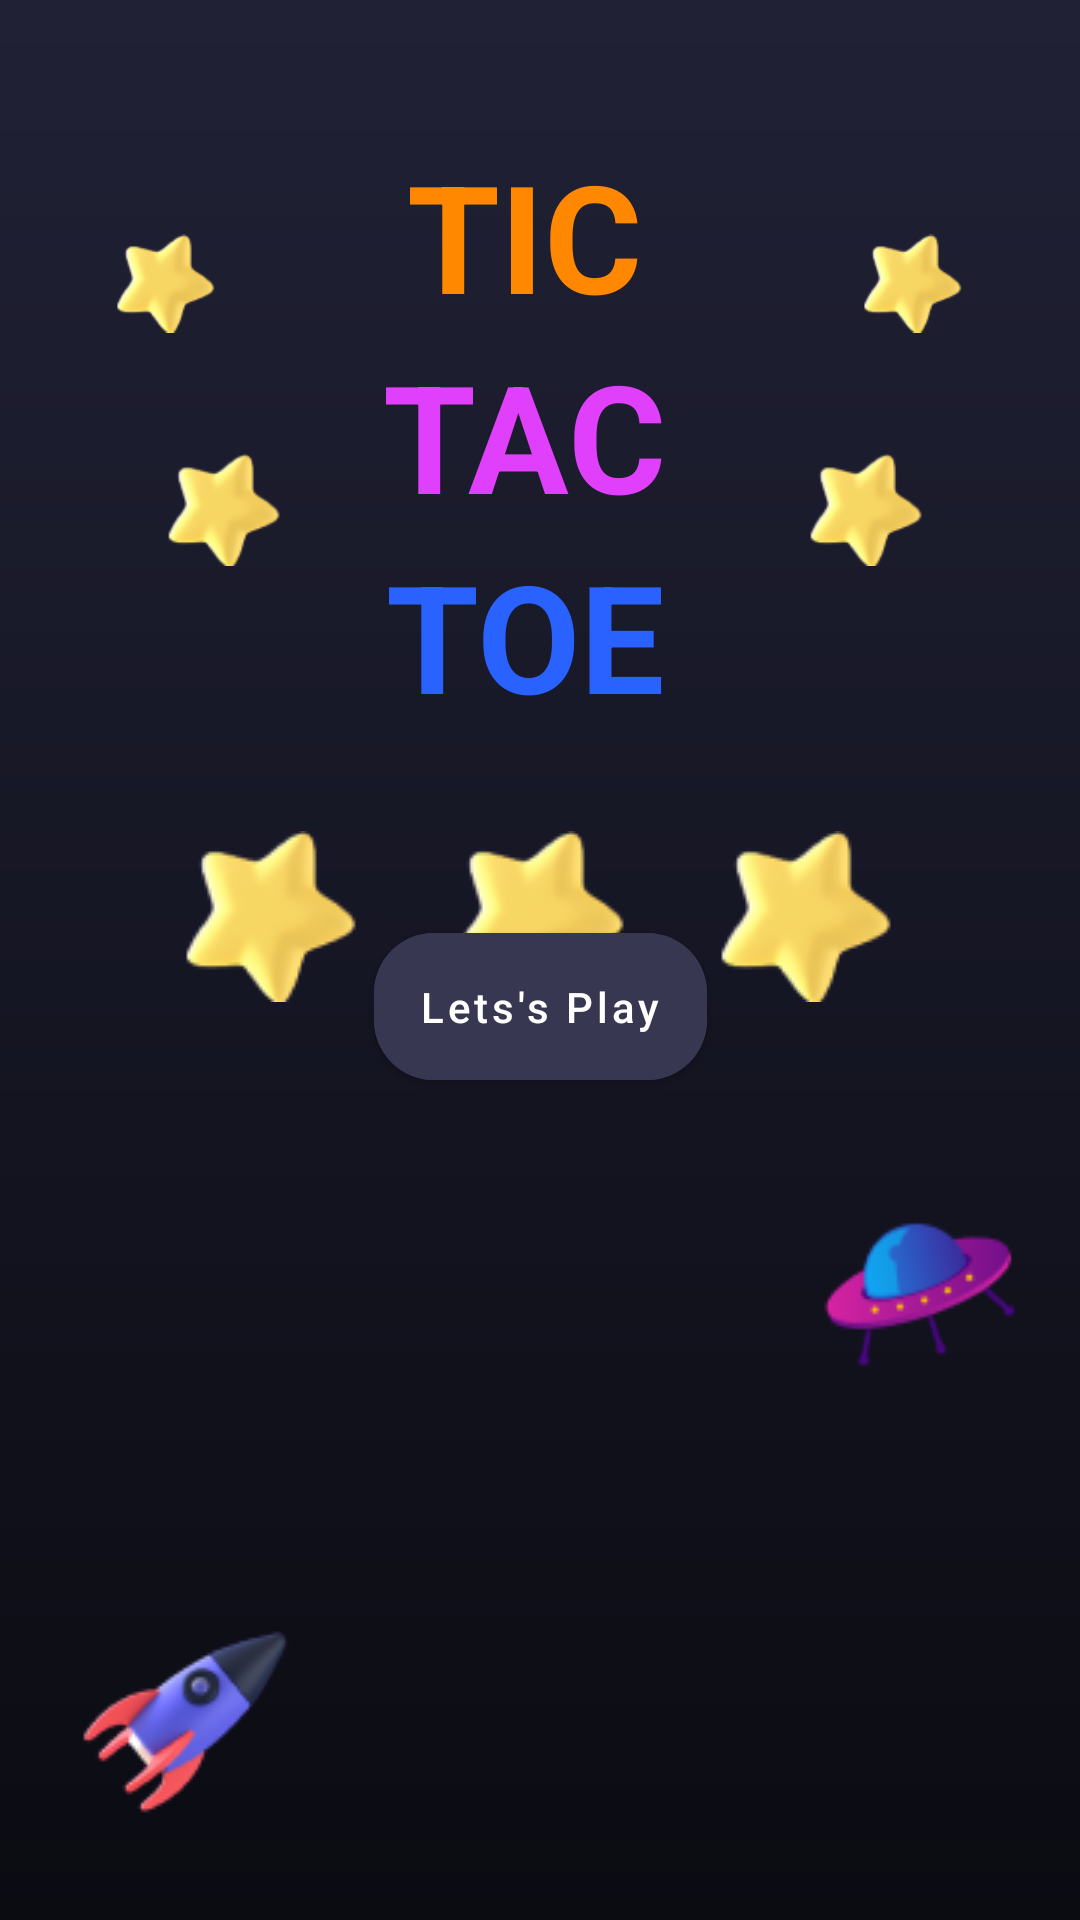

Screen size 1080px x 1920px. Icon name, then its center in pixels as (x,y):
rocket: (184,1722)
ufo: (919,1294)
